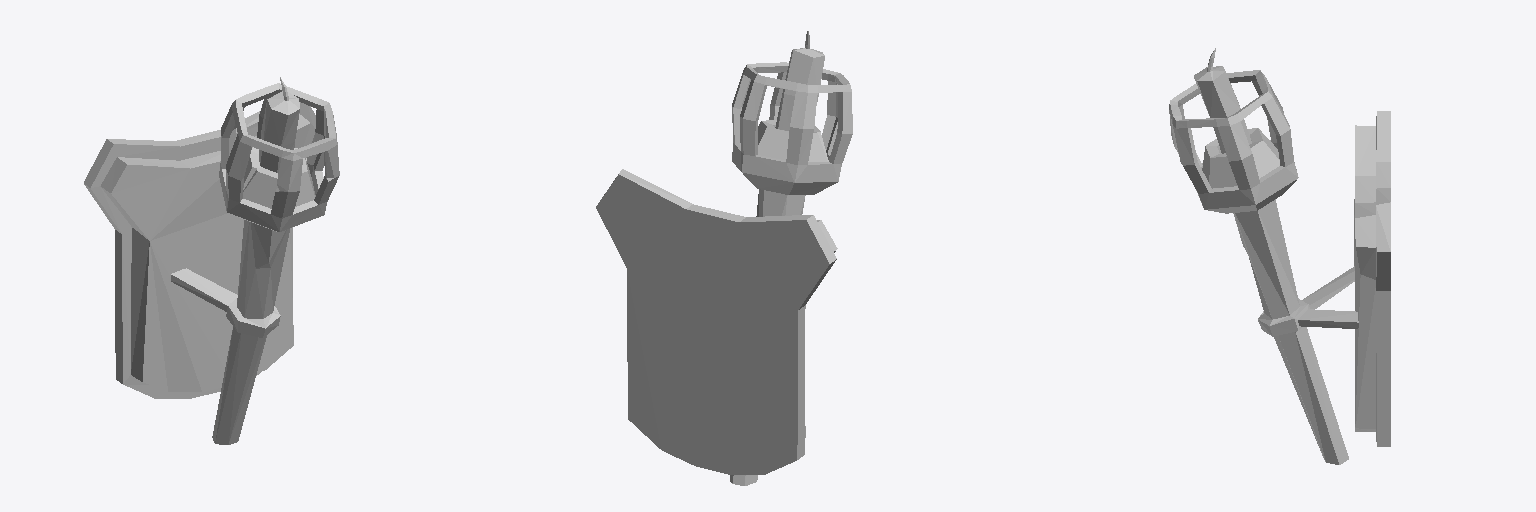
File: Wall Torch.obj
3 views of the same model, side by side, from view 1: azimuth 30°, elevation 25°; view 2: azimuth 150°, elevation 25°; view 3: azimuth 270°, elevation 25° (orthographic).
Visible parts, largest first — view 1: Wall_Torch_WallTorch; view 2: Wall_Torch_WallTorch; view 3: Wall_Torch_WallTorch.
Part boxes in pixels (x1,y1,x2,y2): Wall_Torch_WallTorch: (84,77,339,444); Wall_Torch_WallTorch: (596,31,852,485); Wall_Torch_WallTorch: (1169,48,1390,464).
Bounding box in the file's own units: 0.4219 × 0.7056 × 0.346.